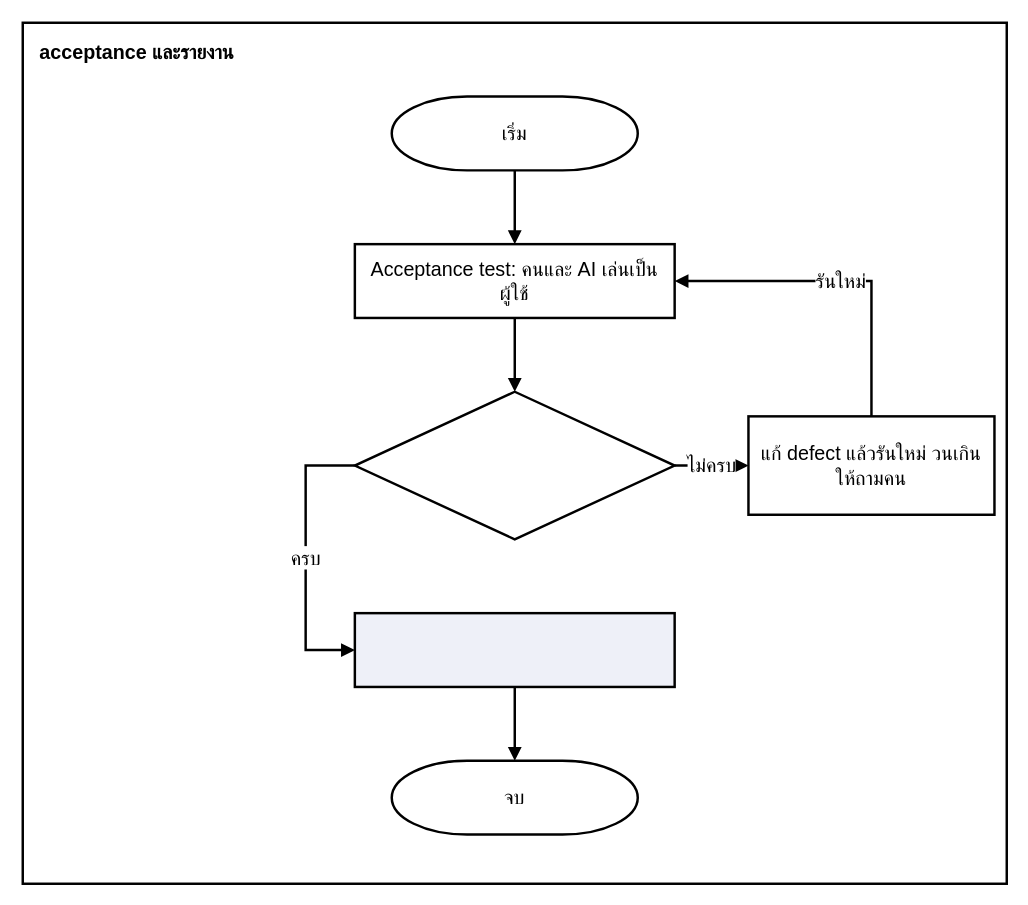
Some shapes in this 1028 by 905 pixel diagram are drawn without their labels. Each missing label, with the centre of its shape:
exit criteria ครบ?: pixel 514 465
สรุป Report Table ทุกระดับ: pixel 514 649
